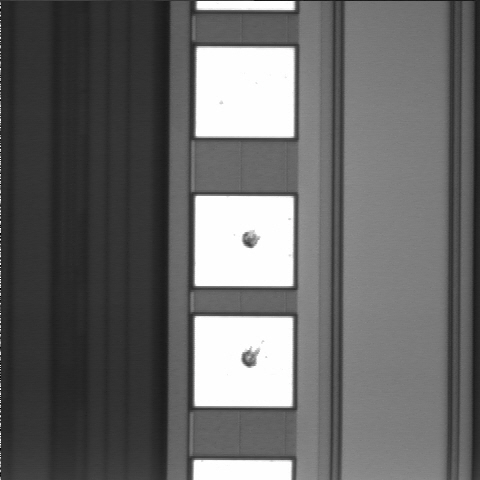pad: (196, 47, 294, 138), (195, 196, 294, 286), (195, 316, 293, 406)
